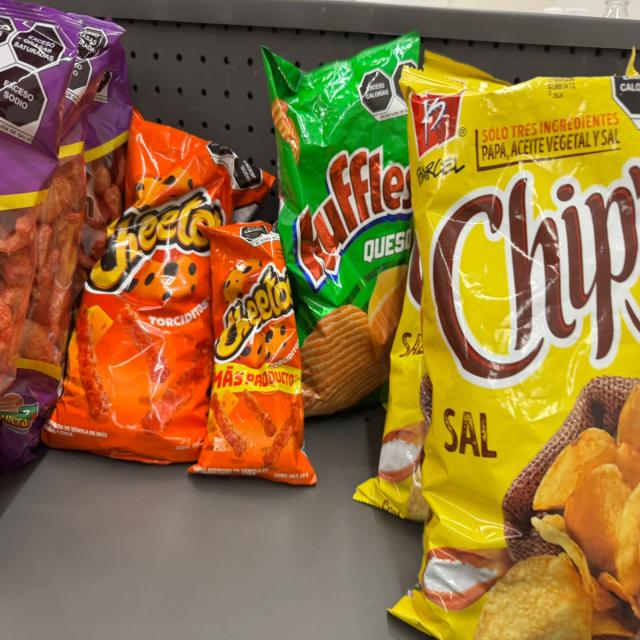CHEETOS TORCIDITOS 240GR: (191, 220, 316, 488)
Cheetos grandes: (56, 113, 272, 471)
Papas Chips Barcel 170 gr bolsa con sal: (392, 52, 640, 639), (348, 232, 435, 518)
RUFFLES QUESO 185GR: (267, 30, 423, 405)
chicharrones de cerdo intenso: (6, 14, 118, 448), (0, 2, 76, 382), (59, 49, 134, 369)
